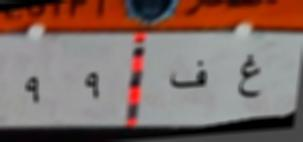9: (20, 69, 44, 109), (83, 67, 104, 103)
faa: (164, 53, 211, 99)
ghayn: (234, 45, 264, 106)
